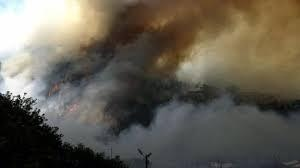fire: (44, 79, 83, 114)
